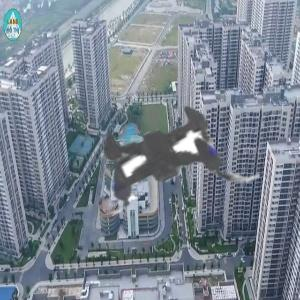drone: (12, 13, 298, 299)
